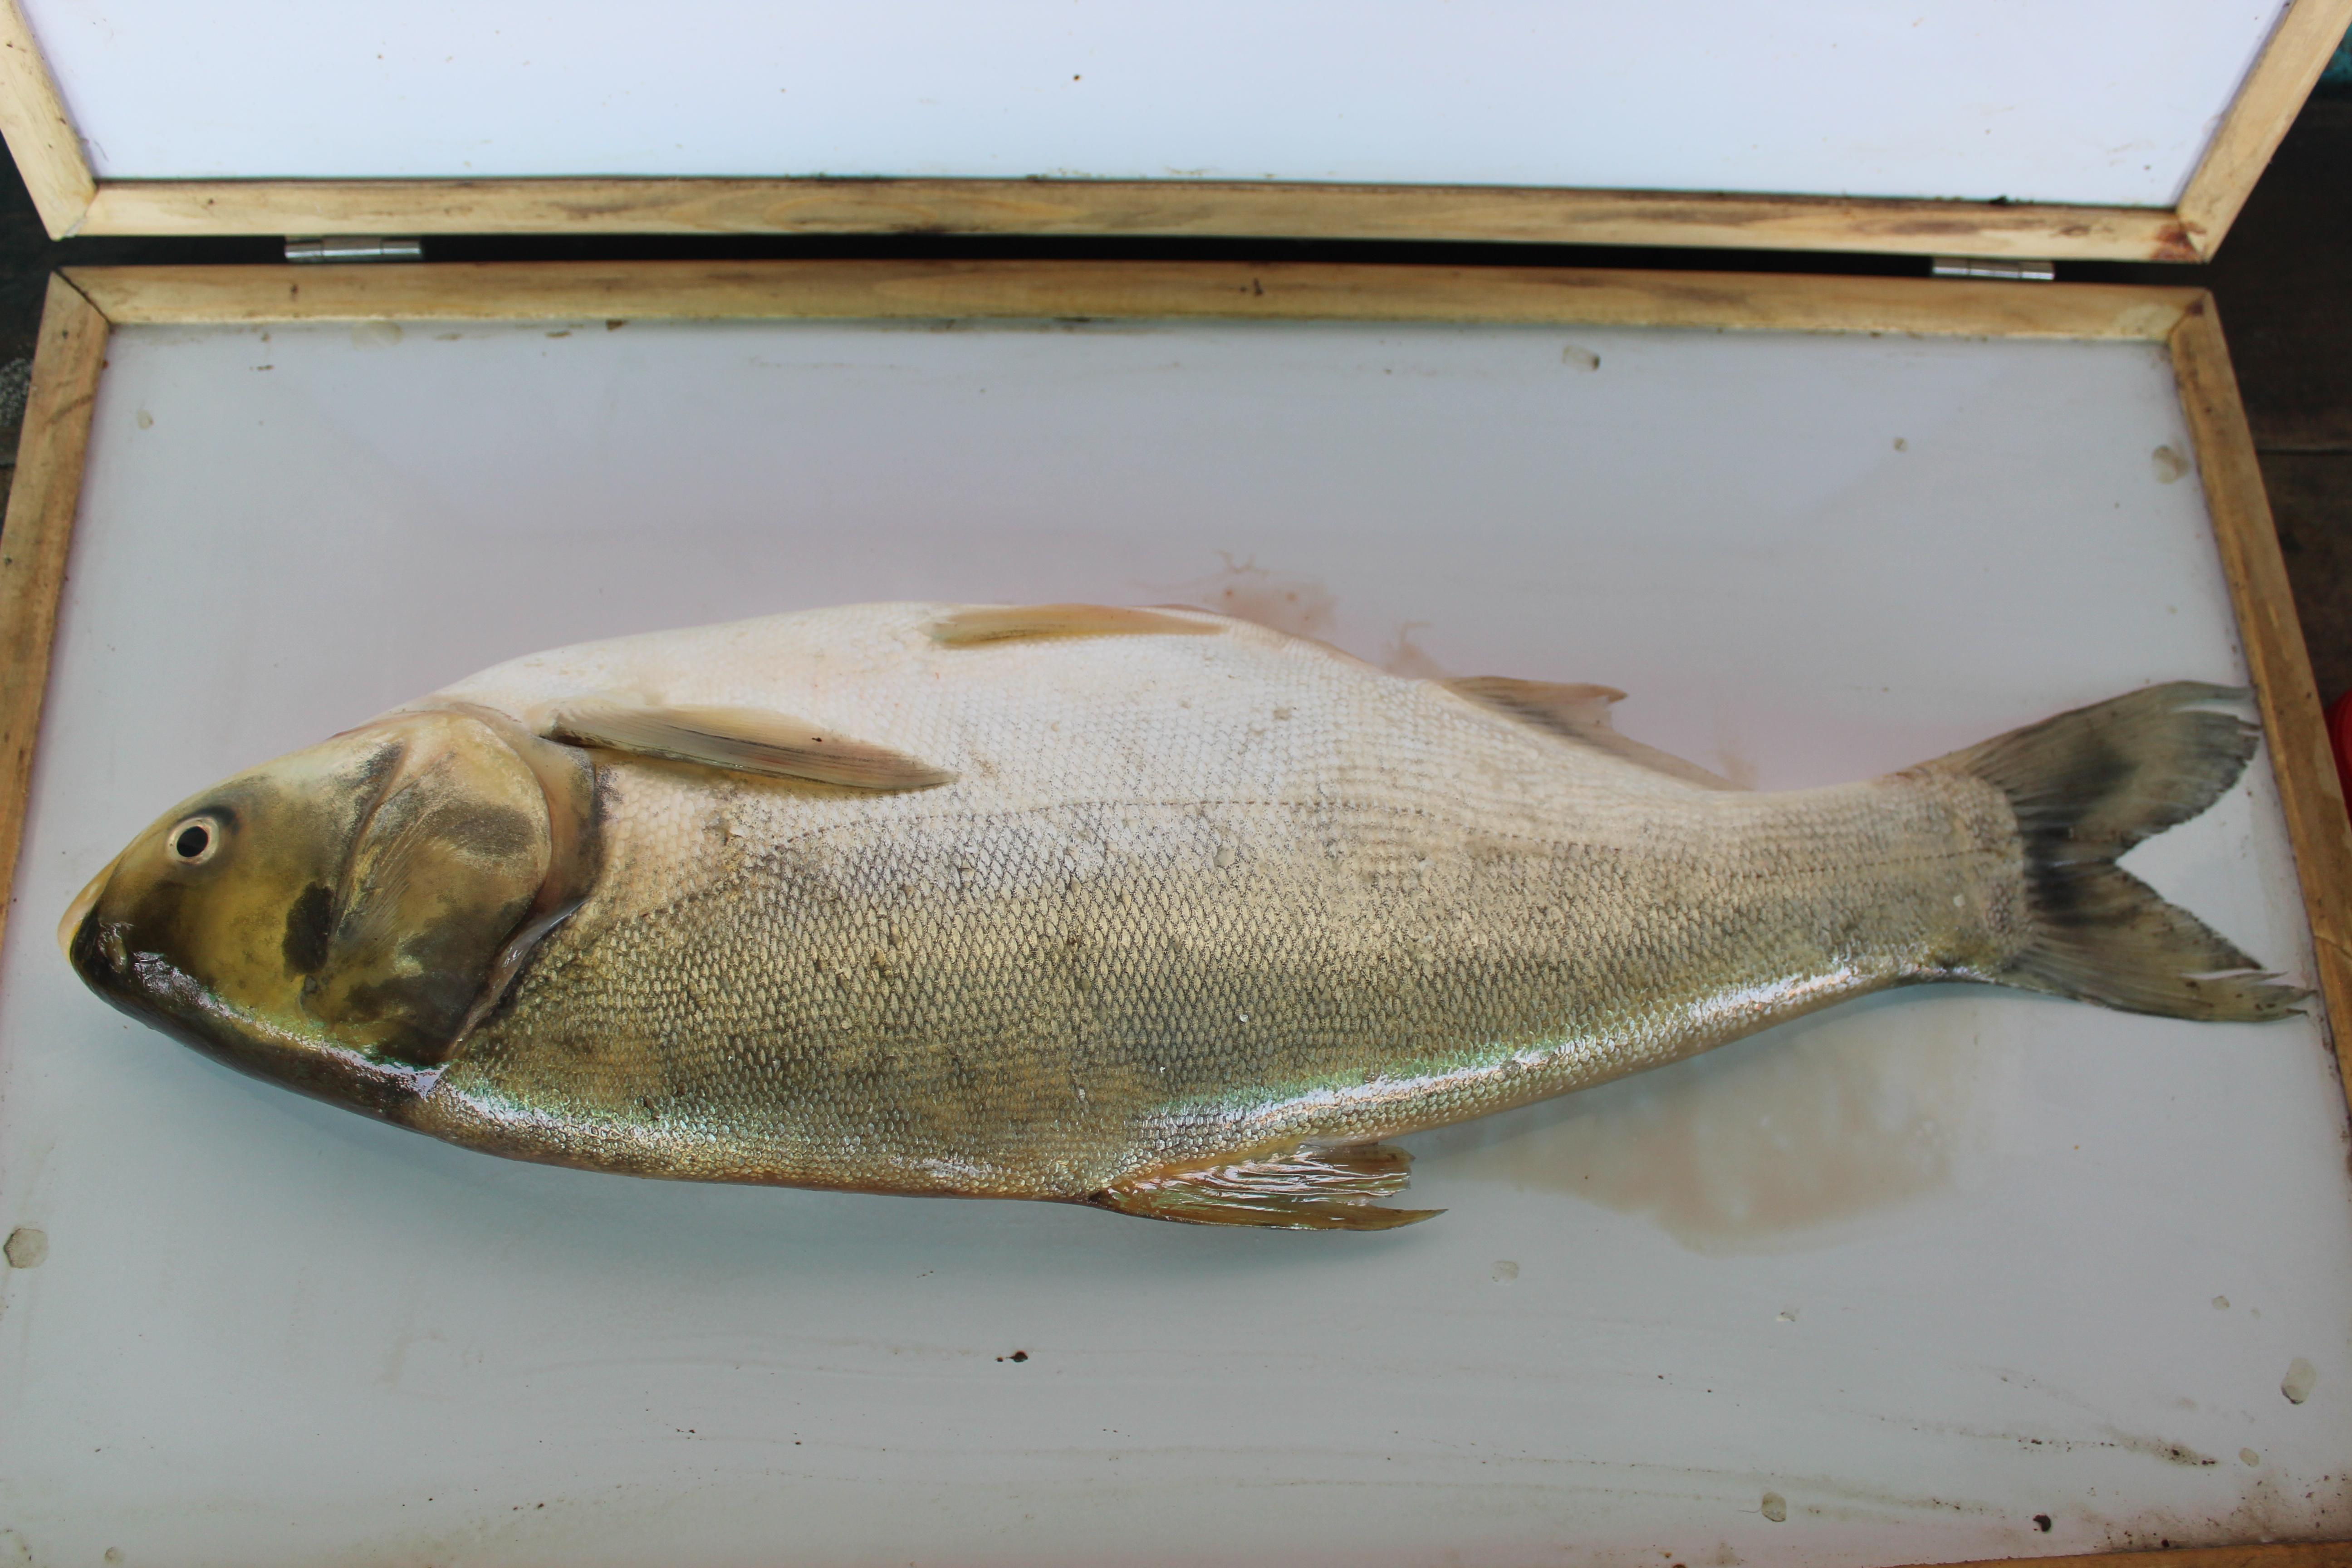Silver Carp: (70, 581, 2336, 1248)
